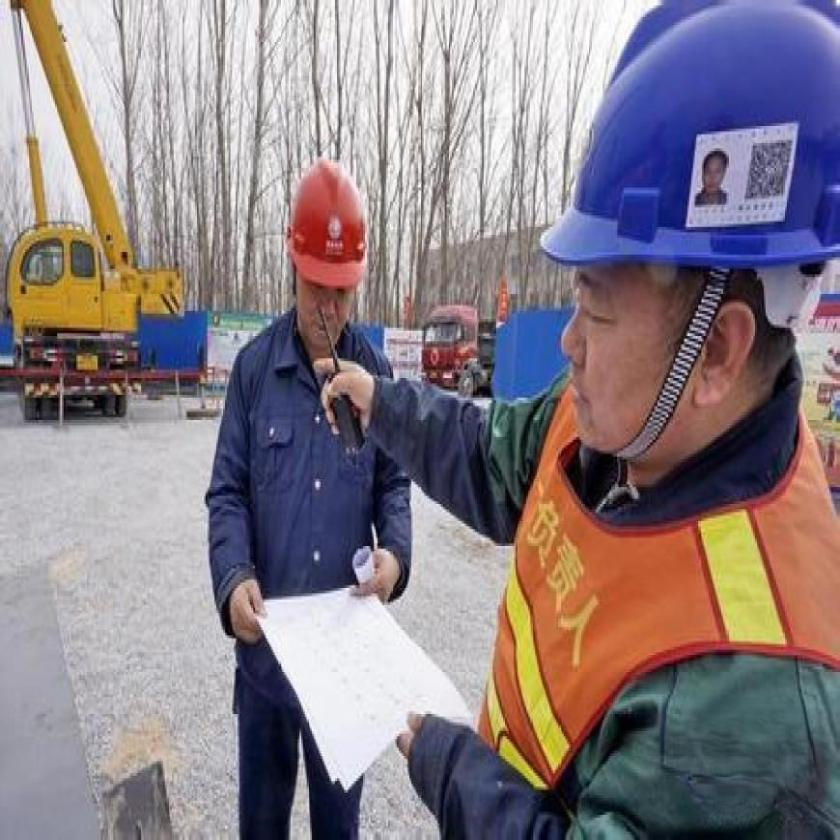Con_casco: (550, 0, 840, 445), (282, 146, 364, 352)
